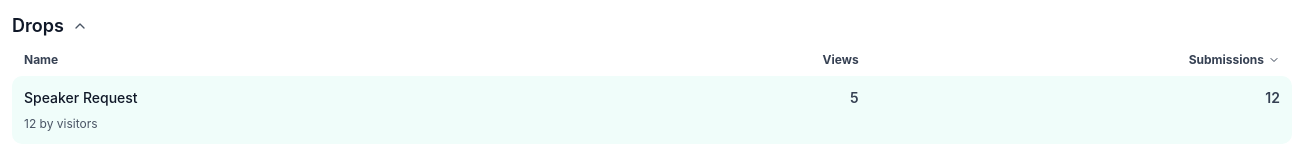
it: DropsAnalyticsCard › expands and collapses section
The image size is (1304, 161).
Expected: the text "Speaker Request" is shown, [24, 89, 138, 106]
Expected: the heading "Drops" is shown, [12, 12, 64, 40]
Click the button labelled "Drops" at point(38, 26), box [12, 12, 1292, 40]
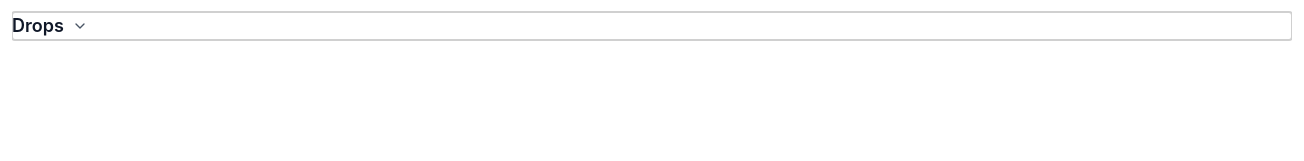
Now the text "Speaker Request" is gone
